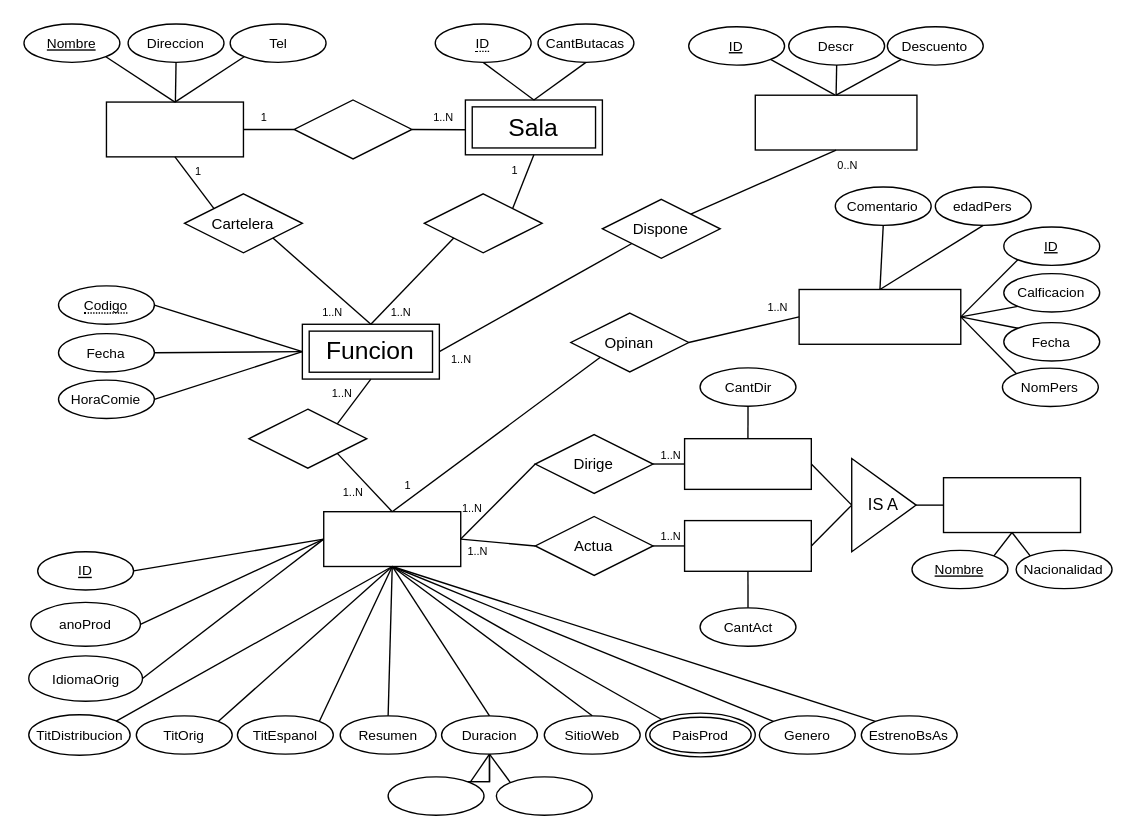
This 1137x840 diagram has some shape labels left out. The shapes that lost their labels are listed below. From the top down, each one's box as (x1, y1, x2, y2) in pixels, then its label:
(105, 101, 243, 157): Cine
(293, 99, 412, 159): Tiene
(754, 94, 917, 150): Promociones
(423, 192, 542, 253): En
(798, 288, 961, 344): Opinion
(248, 408, 367, 468): Exhibe
(683, 437, 811, 489): Director
(942, 476, 1081, 533): Persona
(322, 510, 461, 566): Pelicula
(683, 519, 811, 571): Actor
(387, 776, 484, 815): Hora
(495, 776, 592, 815): Minutos
